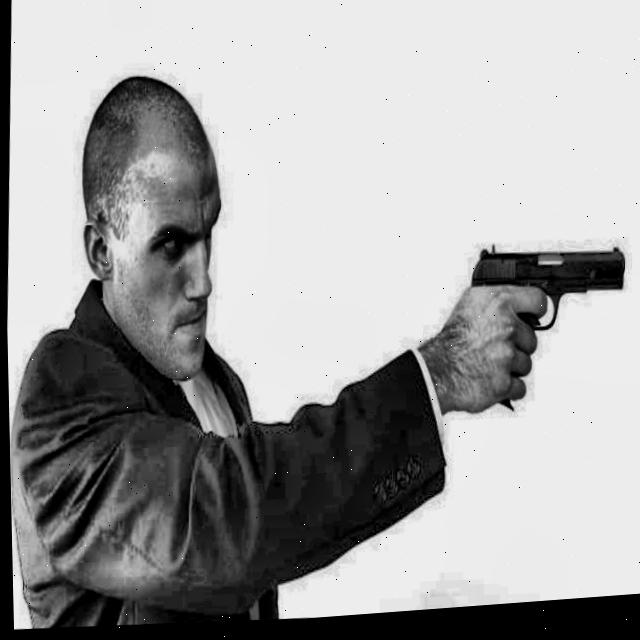pistol: (459, 200, 640, 421)
